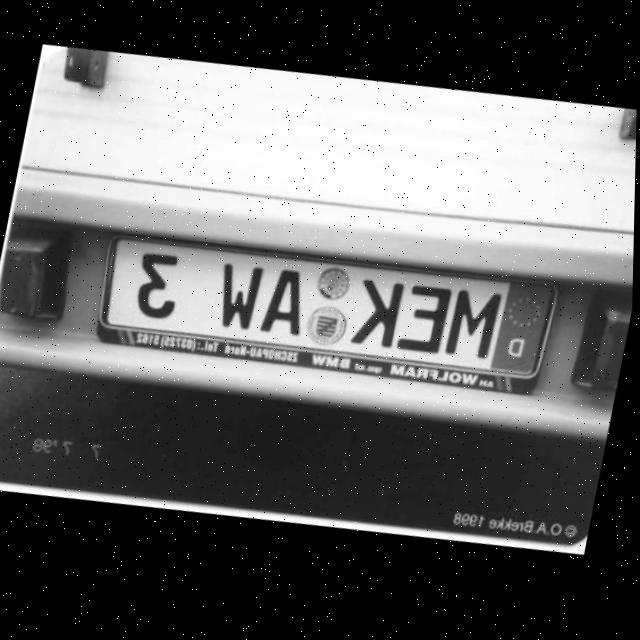license-plates: (103, 239, 555, 378)
